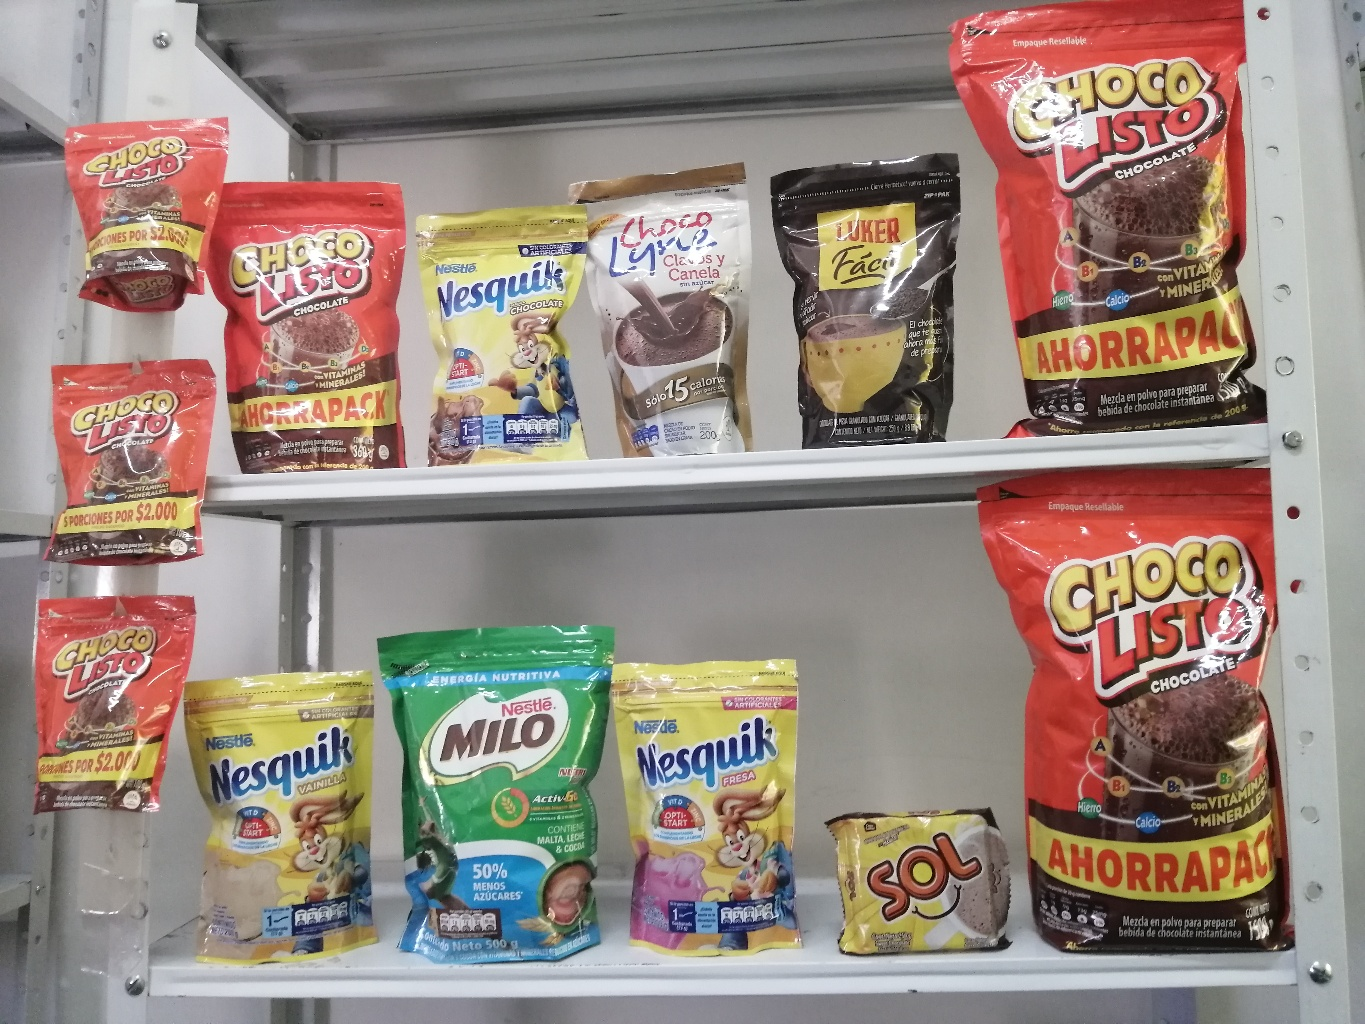COL0170103DYP1,500: (953, 1, 1272, 419)
COL0170103DYP36000: (207, 163, 410, 471)
COL0170205DYP50000: (385, 615, 628, 969)
COL0170303DYP20000: (412, 191, 587, 453)
COL0170305DYP20000: (615, 644, 804, 962)
COL0170306DYP20000: (174, 653, 383, 958)
